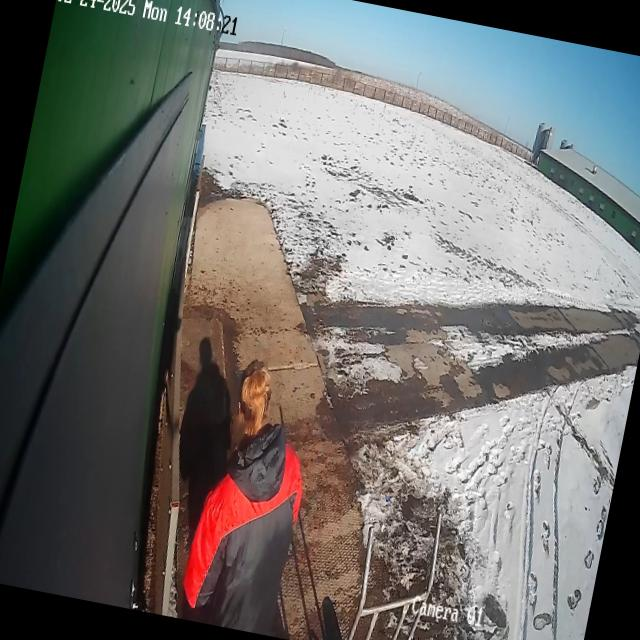Red uniform: (183, 425, 302, 635)
